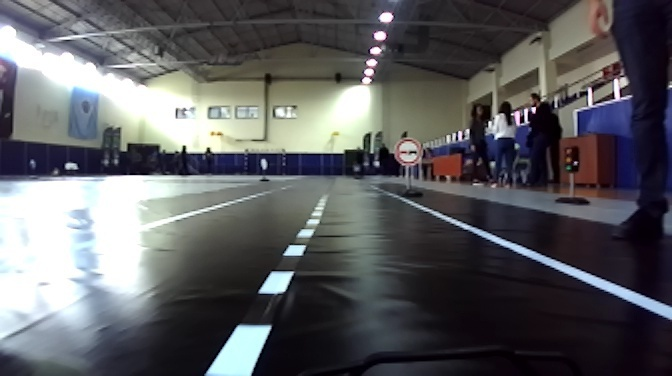sollama_yasak: (396, 139, 422, 167)
